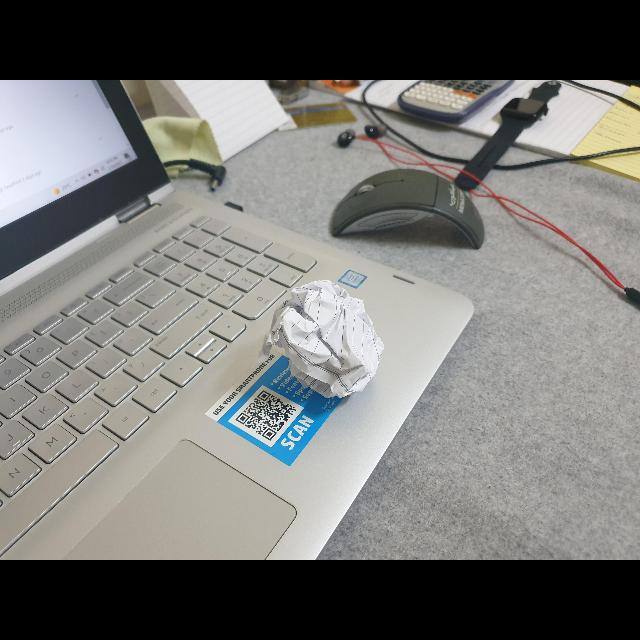scrap_paper: (256, 271, 389, 419)
